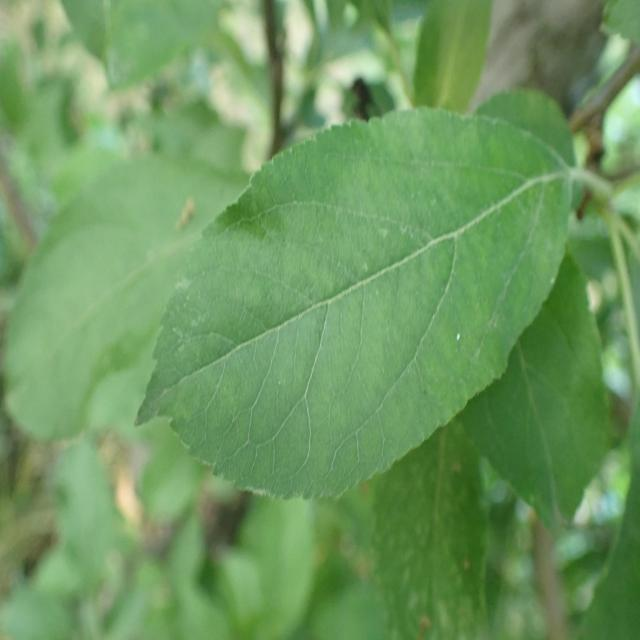healthy: (134, 105, 572, 502)
